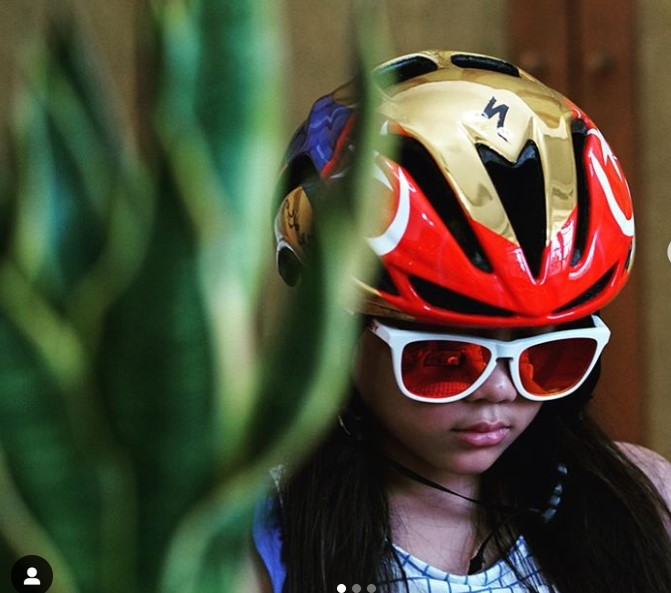face_no_mask: (351, 286, 587, 479)
